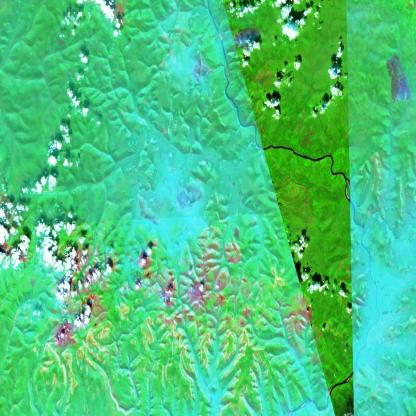fire: (231, 24, 263, 54)
